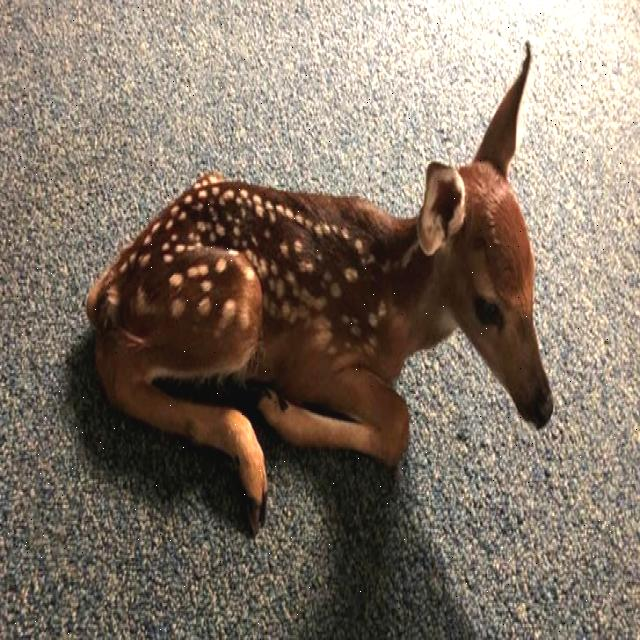deer: (72, 44, 581, 530)
